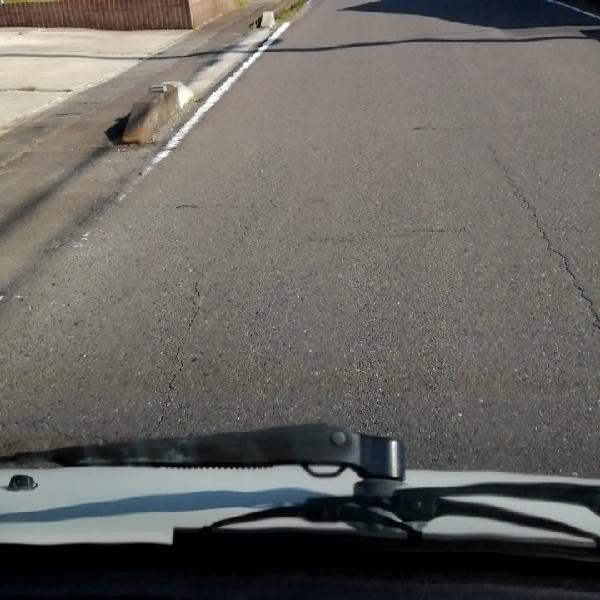D00: (483, 135, 595, 332), (157, 264, 206, 414)
D10: (147, 193, 256, 220), (7, 412, 88, 442), (388, 218, 468, 238)
